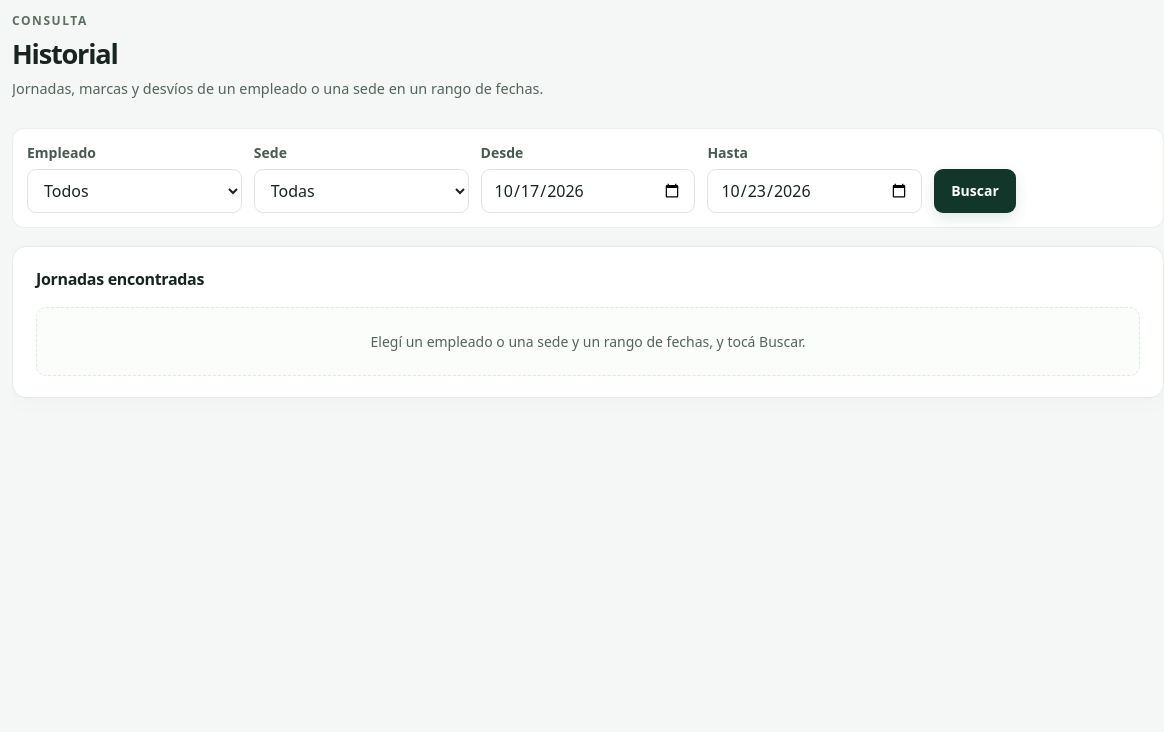
Historial del ADMIN › muestra las marcas y los desvíos de cada jornada con la hora del hecho
Select "Lucía Pérez" in the dropdown labelled "Empleado" at (134, 191), box [27,169,242,213]
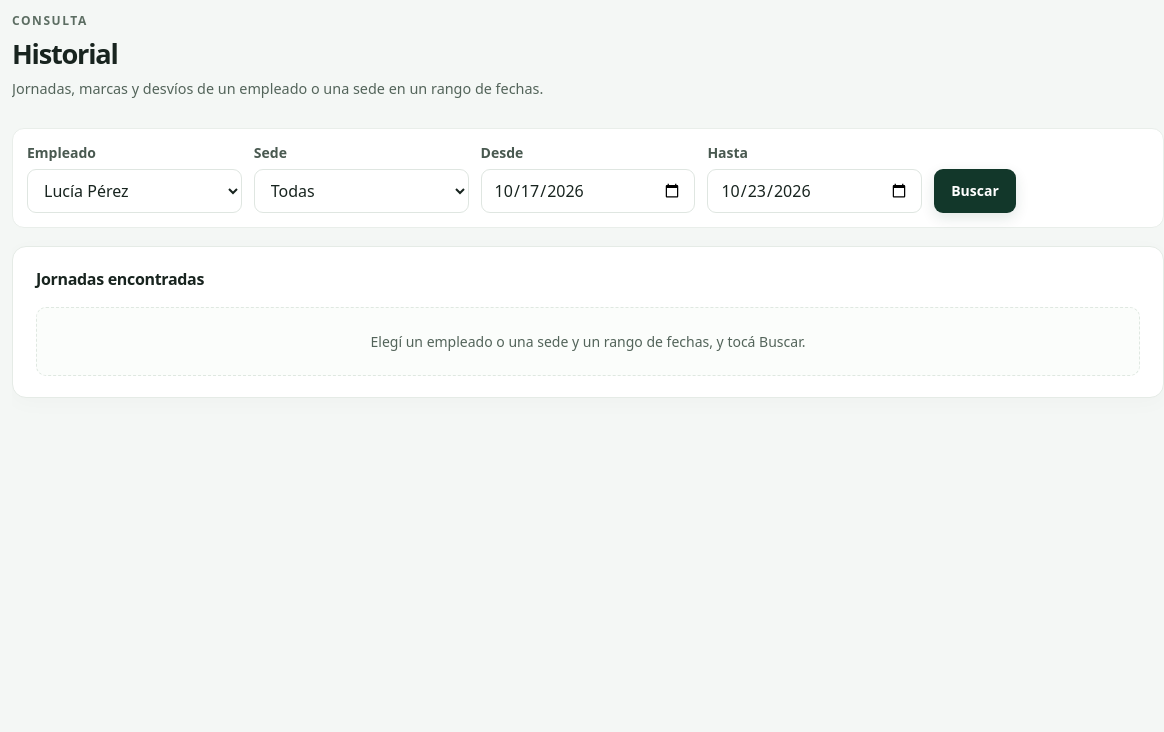
Select "Local Centro" in the dropdown labelled "Sede" at (361, 191), box [254,169,469,213]
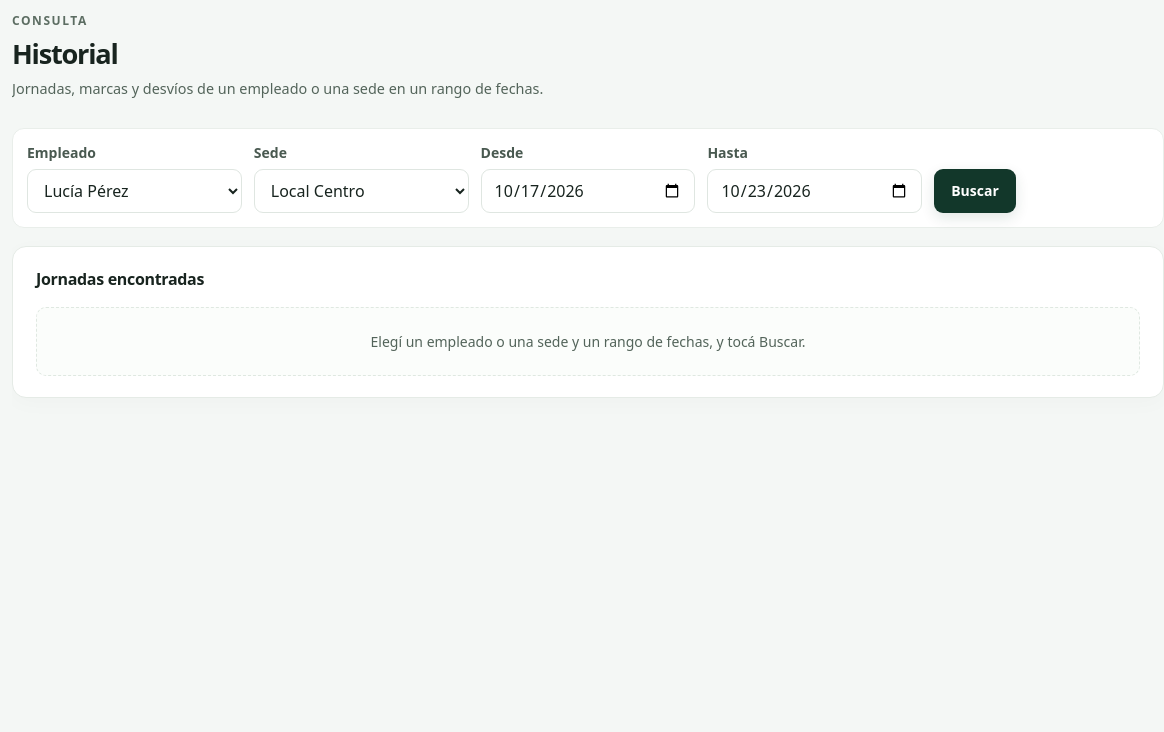
Click the button "Buscar" at (975, 191), box [934,169,1016,213]
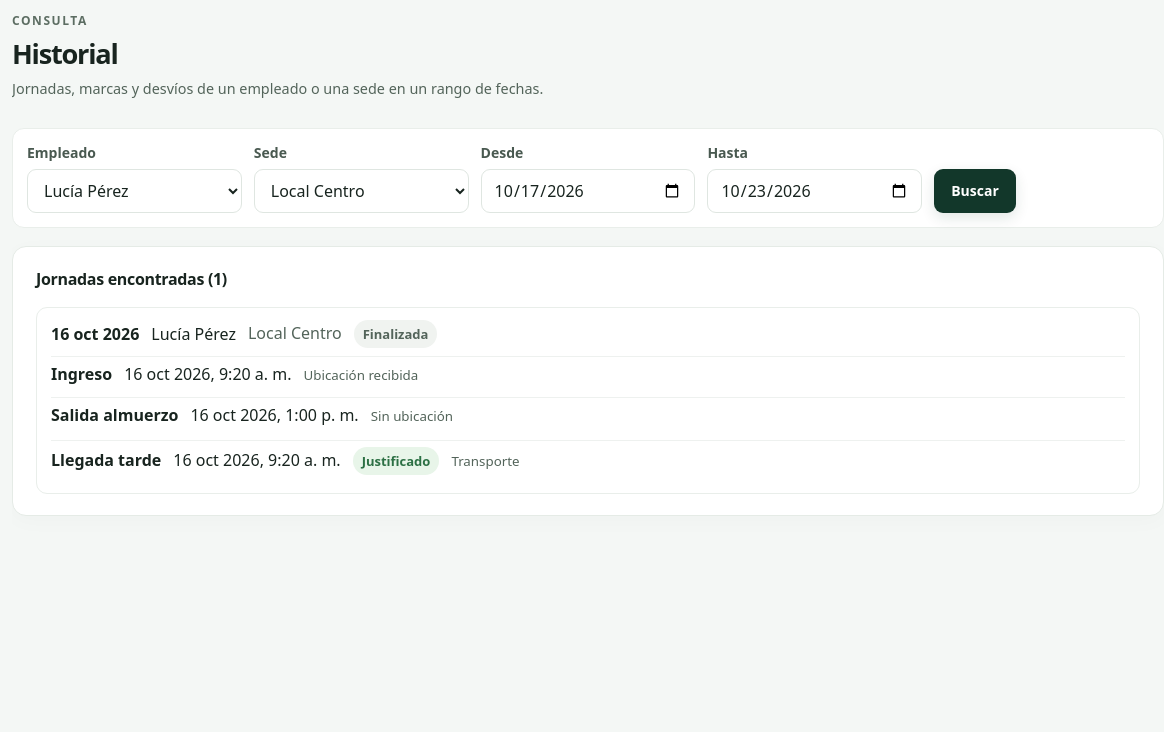
Now the element "Lucía Pérez" shows "Local Centro", box [248,322,342,344]
Now the element "Lucía Pérez" shows "Finalizada", box [363,325,428,343]
Now the list named "Marcas" shows "Ubicación recibida", box [304,366,418,384]
